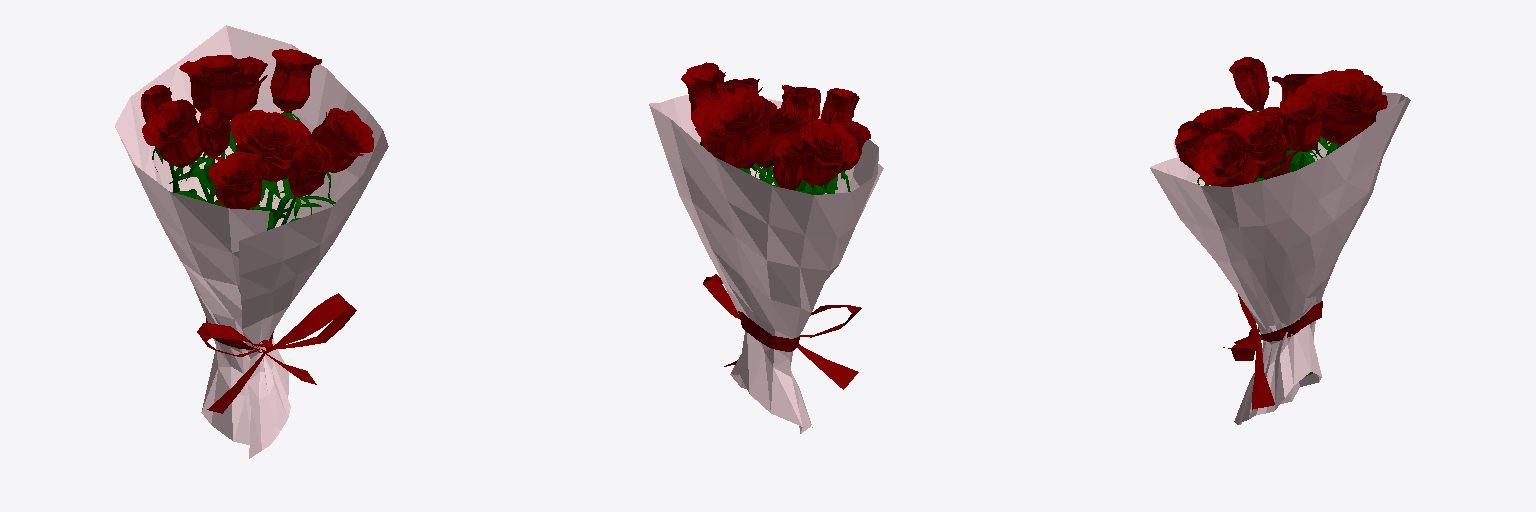
The model's file is GunsRoses.obj.
The picture shows the model from 3 angles: view 1: azimuth 30°, elevation 25°; view 2: azimuth 150°, elevation 25°; view 3: azimuth 270°, elevation 25°; orthographic projection.
Parts seen in each view (by area): view 1: obj17; view 2: obj17; view 3: obj17.
Boxes of the visible parts, x1=… form: obj17: x1=115, y1=25, x2=388, y2=458; obj17: x1=649, y1=62, x2=883, y2=433; obj17: x1=1150, y1=57, x2=1410, y2=424.
Bounding box in the file's own units: 25.01 × 42.01 × 27.25.